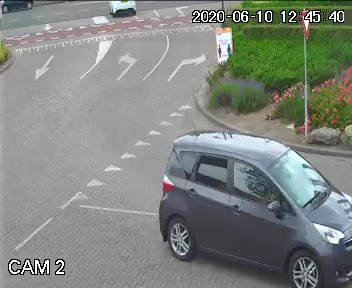car: (144, 127, 352, 288)
